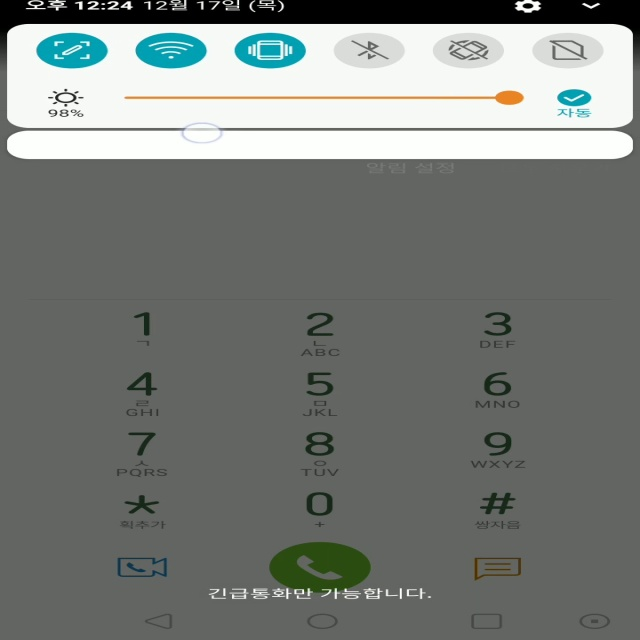Cursor: (181, 122, 225, 144)
